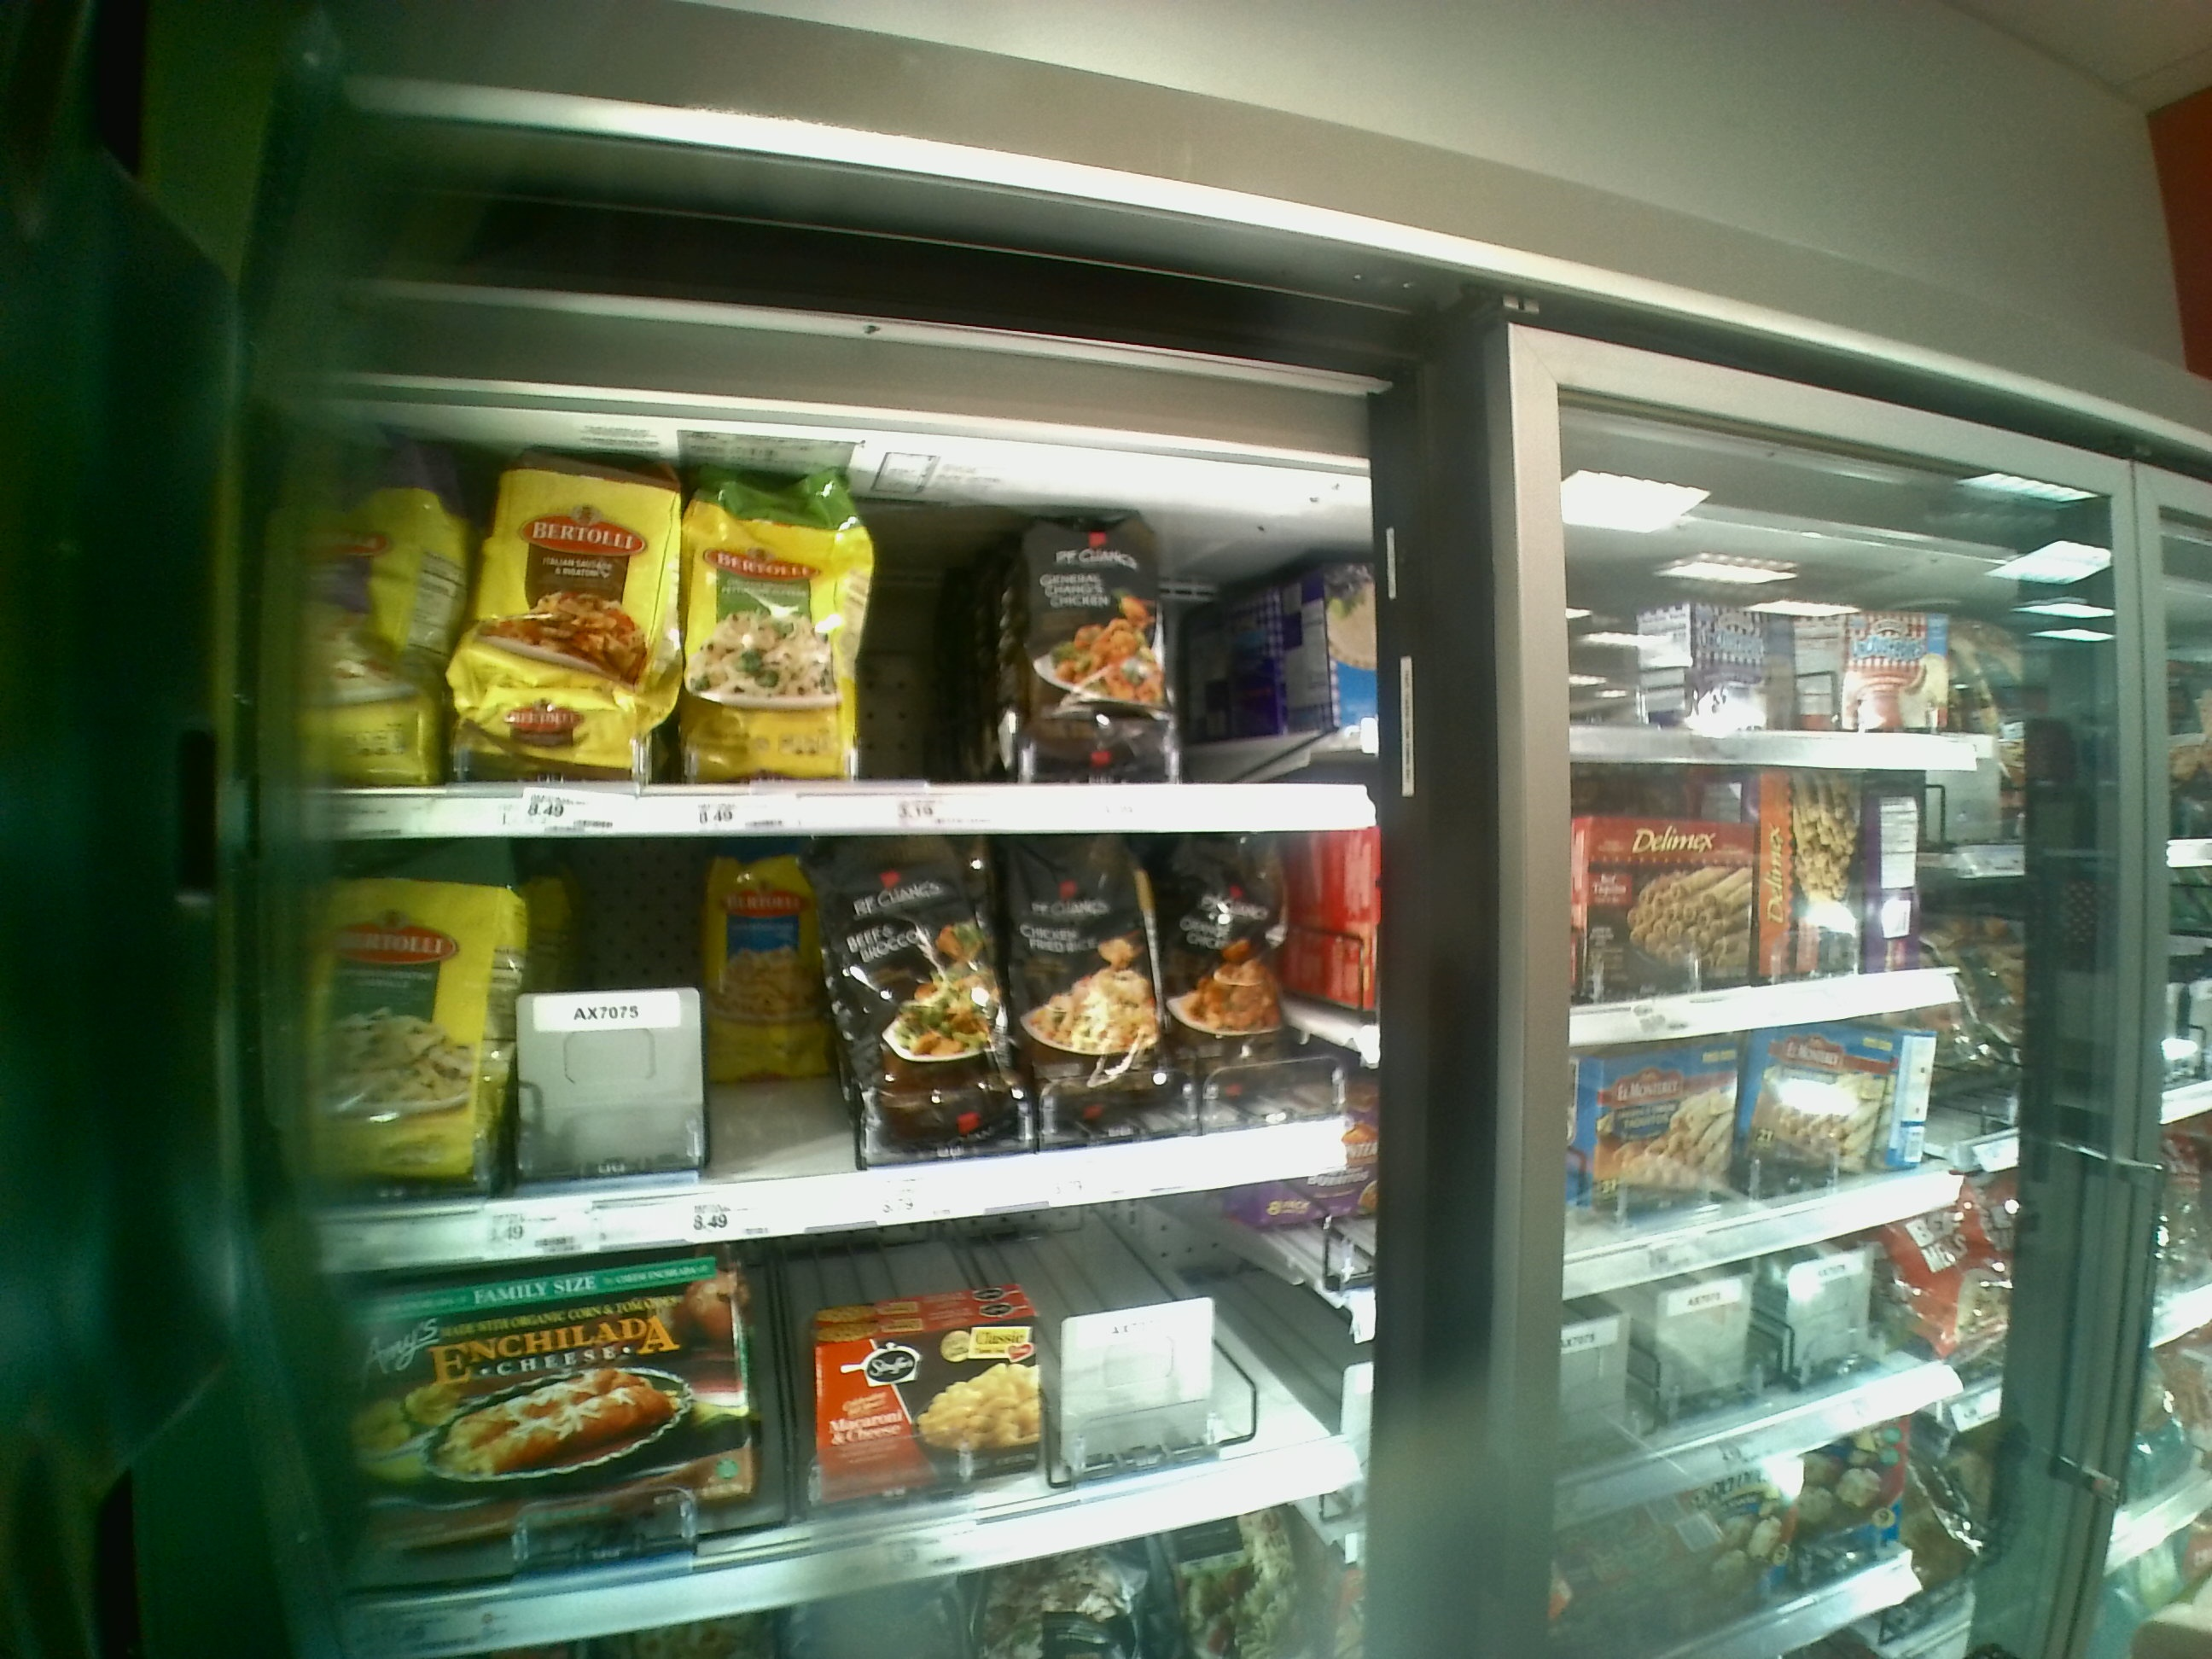shelf: (270, 418, 1367, 843), (307, 849, 1367, 1241), (331, 1208, 1378, 1600)
